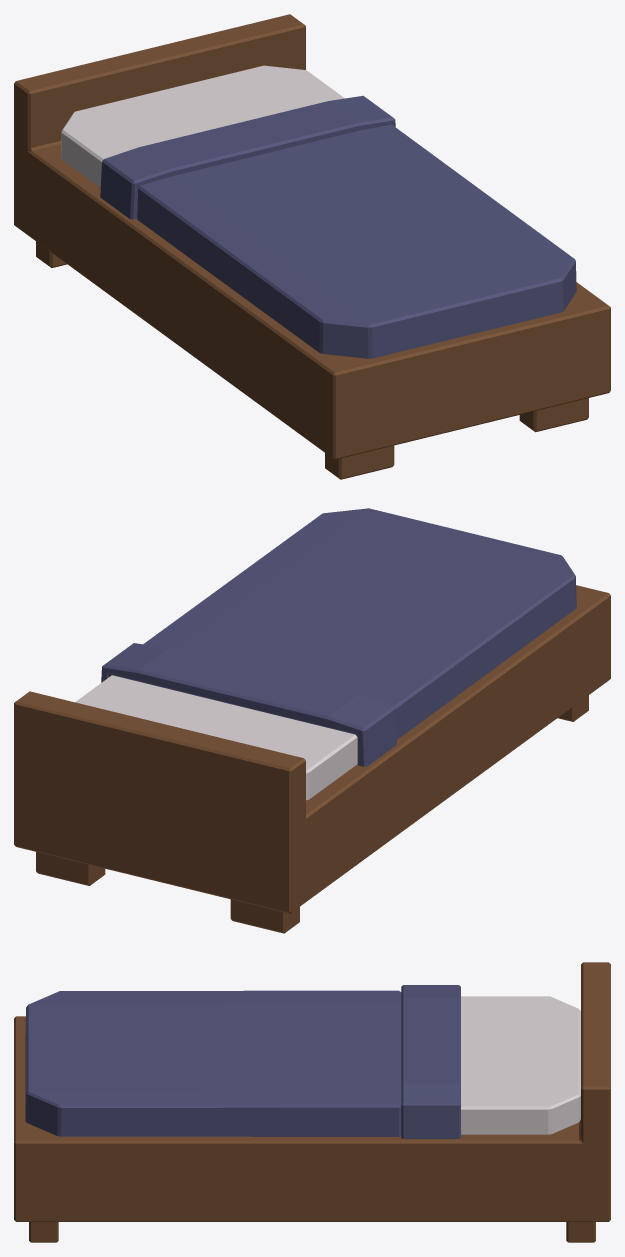
The model's file is tmp_bed.fbx.
3 views of the same model, one above another, from view 1: azimuth 30°, elevation 25°; view 2: azimuth 150°, elevation 25°; view 3: azimuth 270°, elevation 25° (orthographic). The views are drawn at different scales.
Parts seen in each view (by area): view 1: doublebed.001; view 2: doublebed.001; view 3: doublebed.001.
Part boxes in pixels (bbox=[...]): doublebed.001: bbox=[14, 14, 610, 479]; doublebed.001: bbox=[14, 508, 610, 933]; doublebed.001: bbox=[14, 962, 610, 1242].
Bounding box in the file's own units: 100 × 60 × 200.
